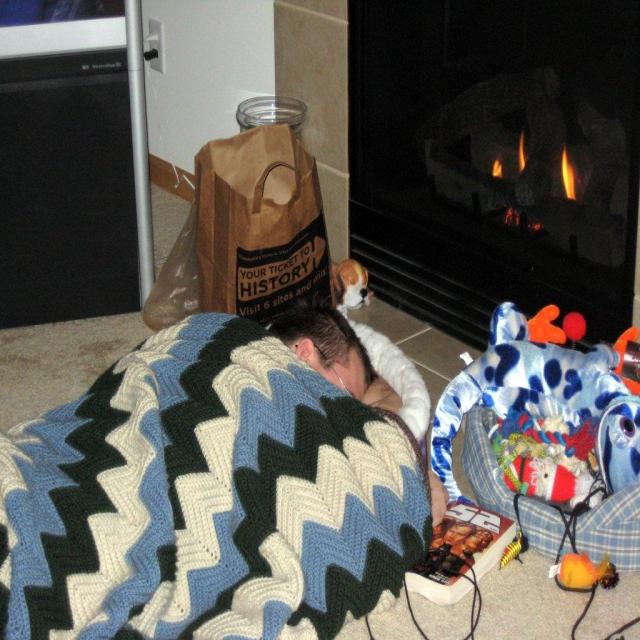Fire: (478, 108, 602, 237)
